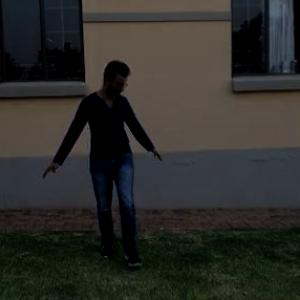land: (40, 49, 188, 270)
